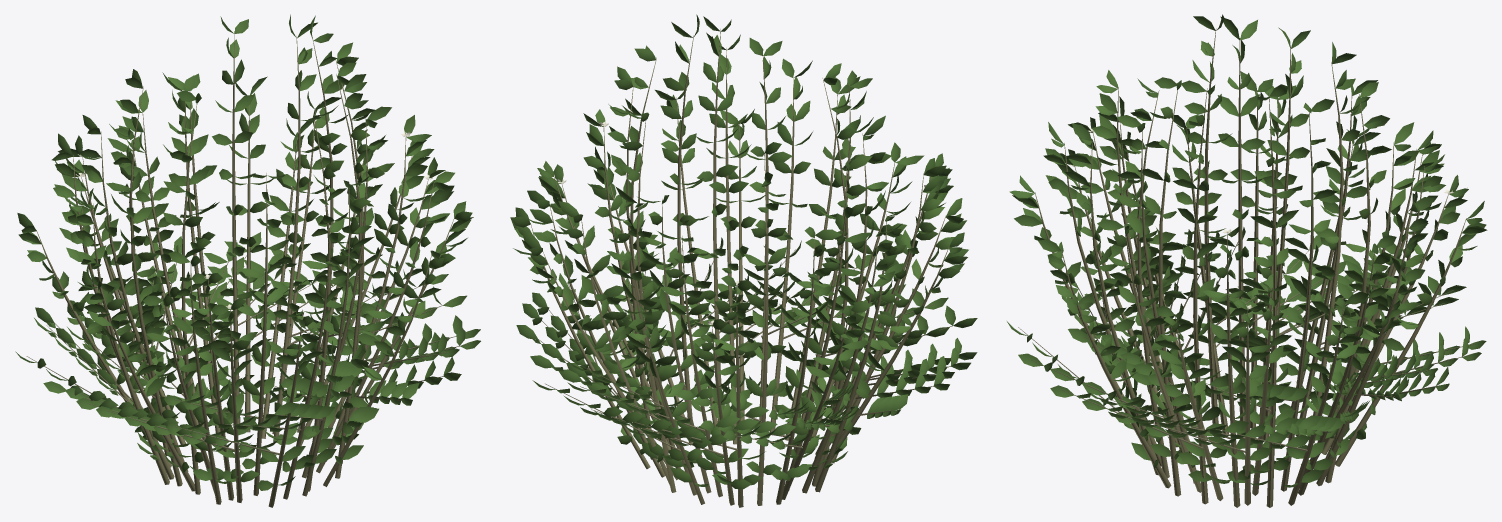
File: myrtus-communis-light.glb
3 renders of one model, left to right at view 1: azimuth 30°, elevation 25°; view 2: azimuth 150°, elevation 25°; view 3: azimuth 270°, elevation 25°, orthographic. The views are drawn at different scales.
Visible parts, largest first — view 1: myrtus-communis dense natural leaf mound, myrtus-communis connected low branching; view 2: myrtus-communis dense natural leaf mound, myrtus-communis connected low branching; view 3: myrtus-communis dense natural leaf mound, myrtus-communis connected low branching.
Boxes of the visible parts, x1,y1,x2,y2 form: myrtus-communis dense natural leaf mound: (15,14,480,490); myrtus-communis connected low branching: (26,31,469,507); myrtus-communis dense natural leaf mound: (510,14,977,489); myrtus-communis connected low branching: (530,29,953,507); myrtus-communis dense natural leaf mound: (1007,14,1487,487); myrtus-communis connected low branching: (1018,28,1474,507).
Size of the model in its own units: 0.926 by 0.9006 by 0.9227.
